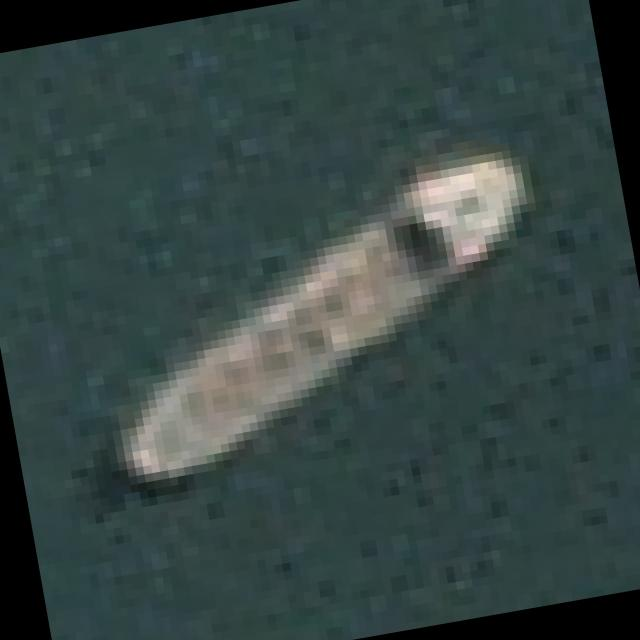ship: (32, 117, 580, 506)
